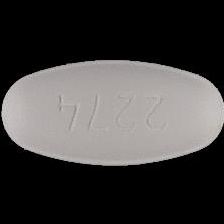16590-019: (0, 0, 224, 224)
